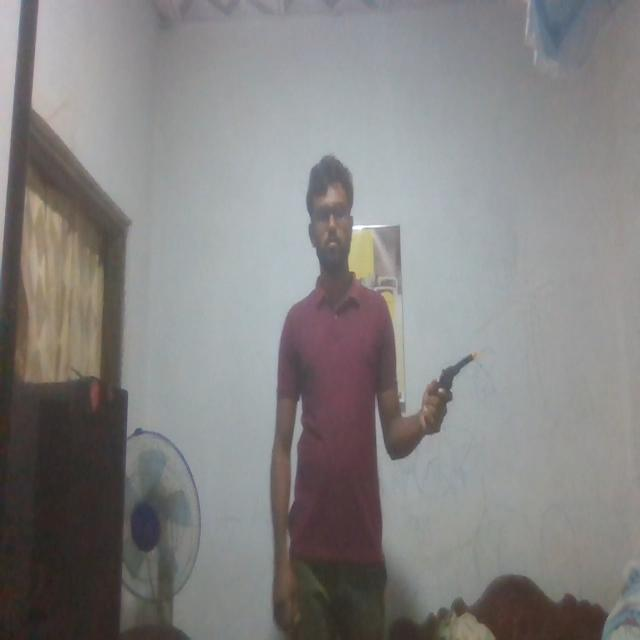Gun_Holder: (429, 350, 487, 423)
Person: (271, 151, 445, 640)
